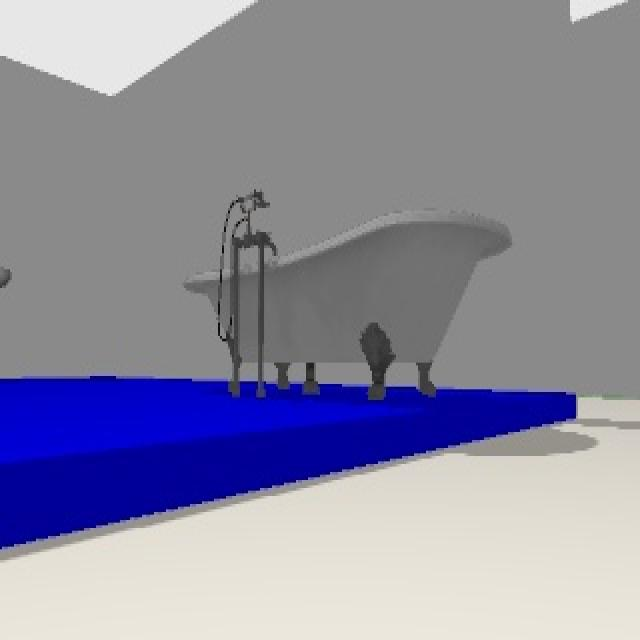bathtub: (184, 196, 510, 400)
